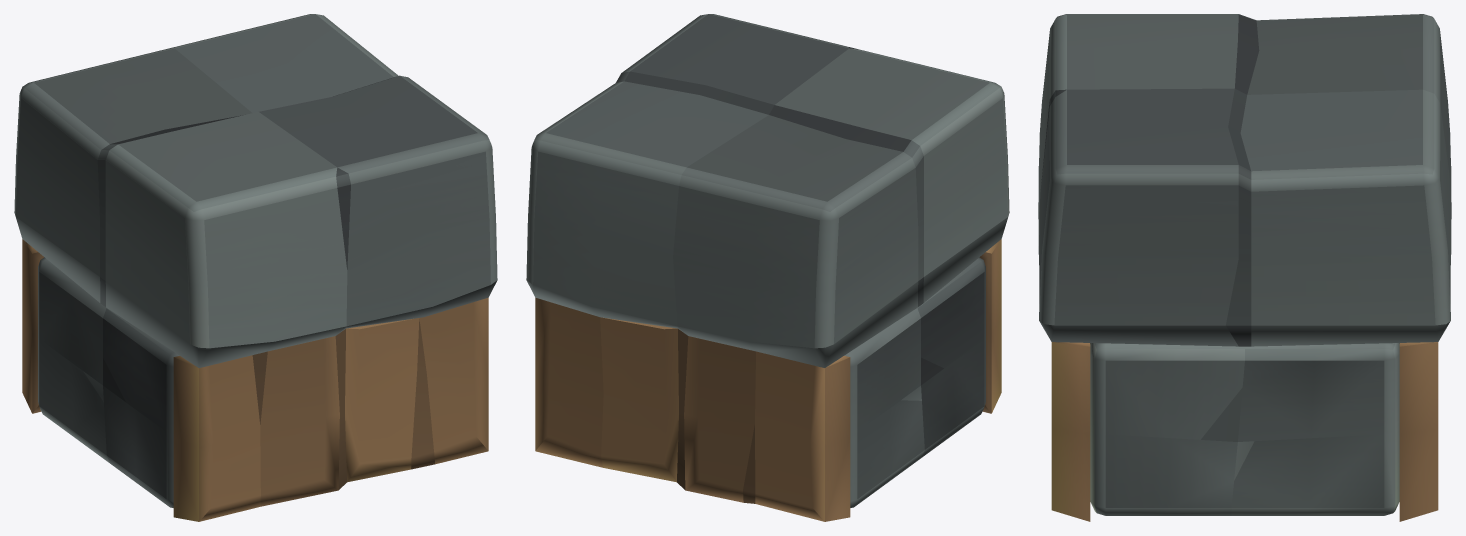
File: tavern_wall_block_top.fbx
The picture shows the model from 3 angles, left to right: view 1: azimuth 30°, elevation 25°; view 2: azimuth 150°, elevation 25°; view 3: azimuth 270°, elevation 25°; orthographic projection. The views are drawn at different scales.
Visible parts, largest first — view 1: tavern_wall_block_top_LOD0; view 2: tavern_wall_block_top_LOD0; view 3: tavern_wall_block_top_LOD0.
Boxes of the visible parts, x1,y1,x2,y2 form: tavern_wall_block_top_LOD0: (14,14,497,521); tavern_wall_block_top_LOD0: (526,14,1009,521); tavern_wall_block_top_LOD0: (1038,14,1451,521).
Size of what is drawn, in the model's own units: 100 by 100 by 107.
